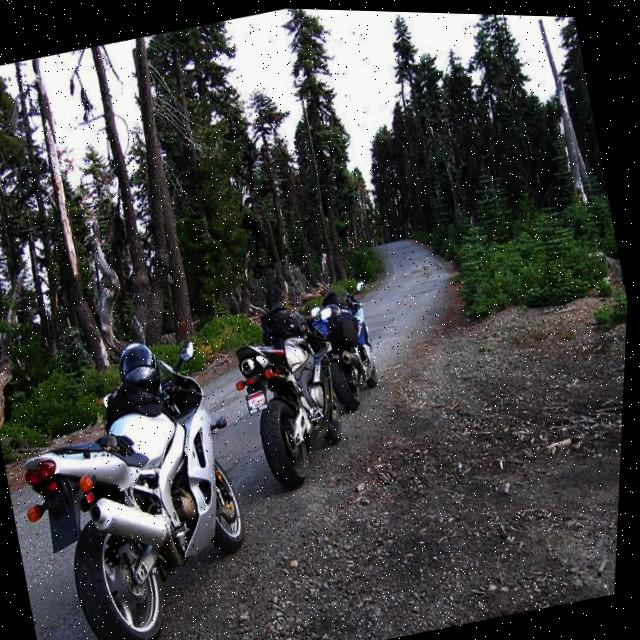motorcycle: (0, 322, 279, 640), (214, 288, 367, 498), (302, 269, 400, 425)
